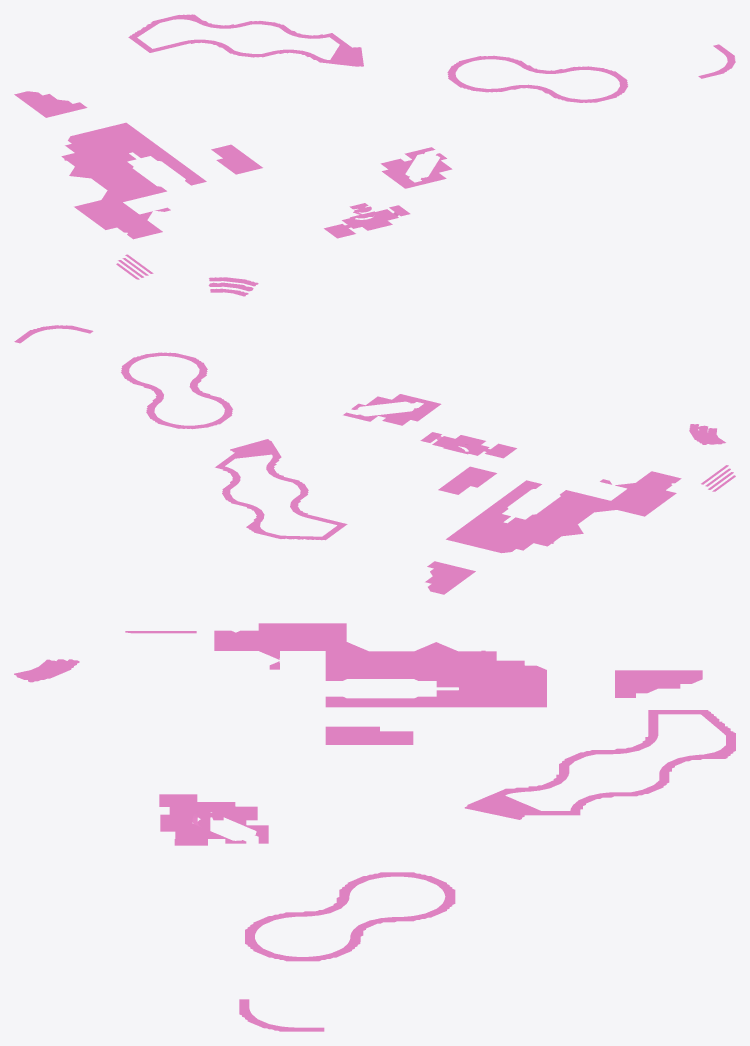
The model's file is merged_navmesh.gltf.
The picture shows the model from 3 angles, top to bottom: view 1: azimuth 30°, elevation 25°; view 2: azimuth 150°, elevation 25°; view 3: azimuth 270°, elevation 25°; orthographic projection. The views are drawn at different scales.
Size of the model in its own units: 296 by 24.81 by 208.
